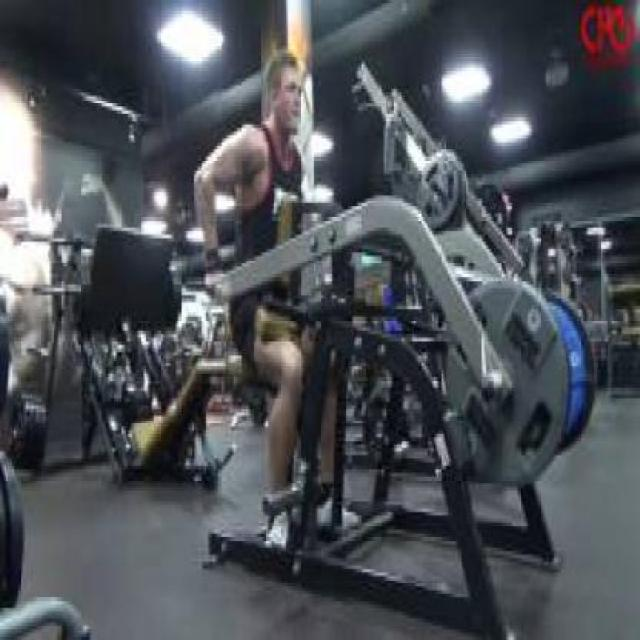seated dip machine: (194, 66, 597, 640)
